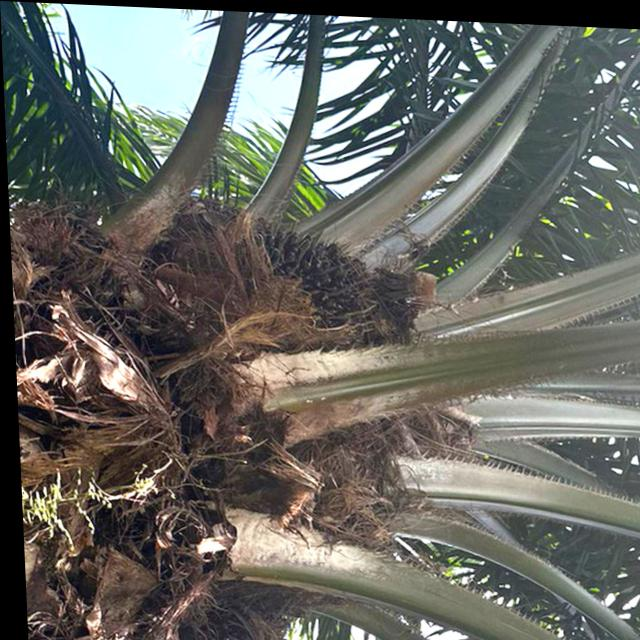almost: (233, 213, 385, 357)
